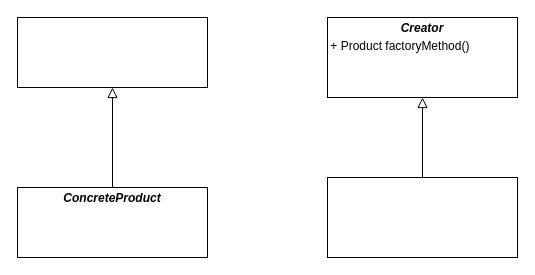
Some shapes in this 535 by 275 pixel diagram are drawn without their labels. The shapes that lost their labels are listed below. From the top down, each one's centre as x and y in pixels, then its label:
At point 112,52: "Product".
At point 422,217: "ConcreteCreator + Product factoryMethod()".
